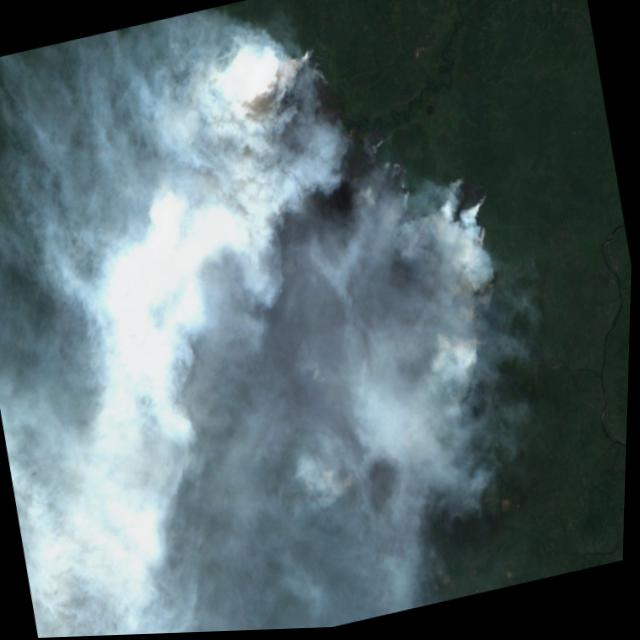fire: (111, 11, 541, 534)
